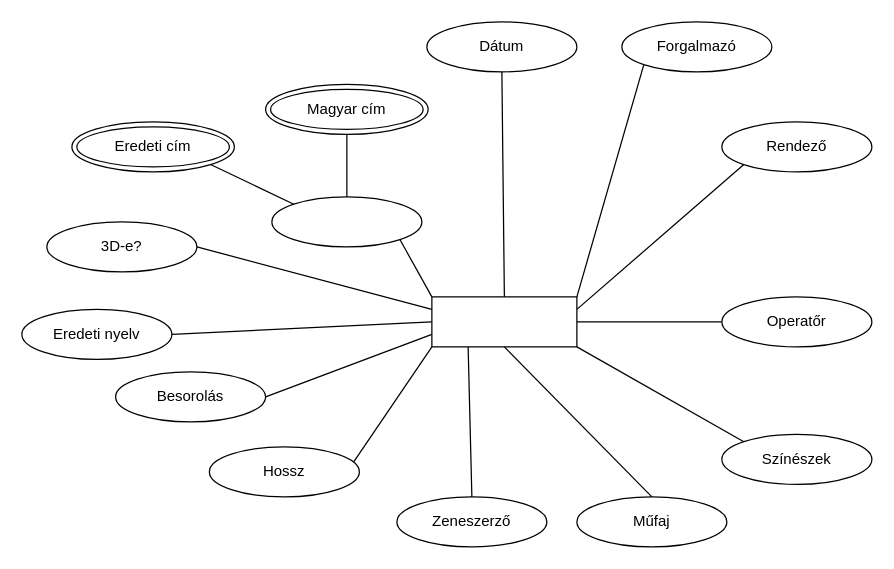
The diagram is 894 pixels wide and 569 high, and some of its shapes have lost their labels. The centre of each missing label's shape, as x and y in pixels:
Cím: (x=346, y=221)
Film: (x=504, y=321)
